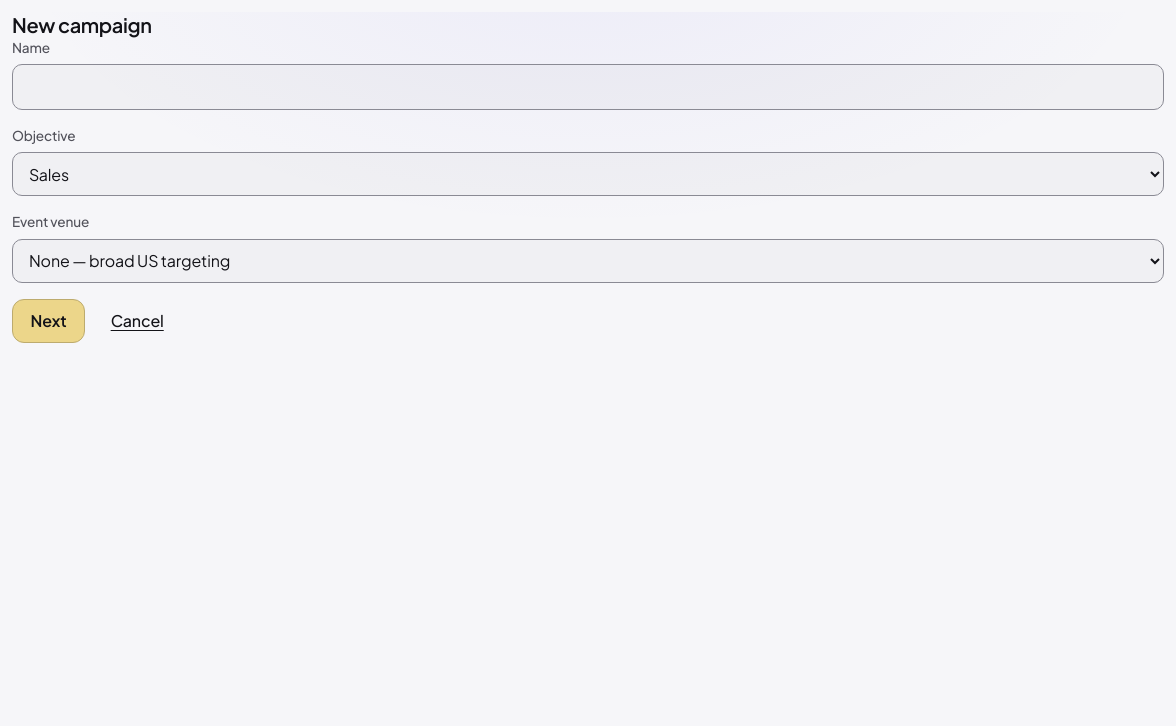
Test: NewCampaignFlow › goes straight to the full ProductForm after creating the campaign — no picker in front of it
The width and height of the screenshot is (1176, 726).
Type "Necklace push" into the field labelled "Name". click: coordinates (588, 87)
box: [12, 64, 1164, 110]
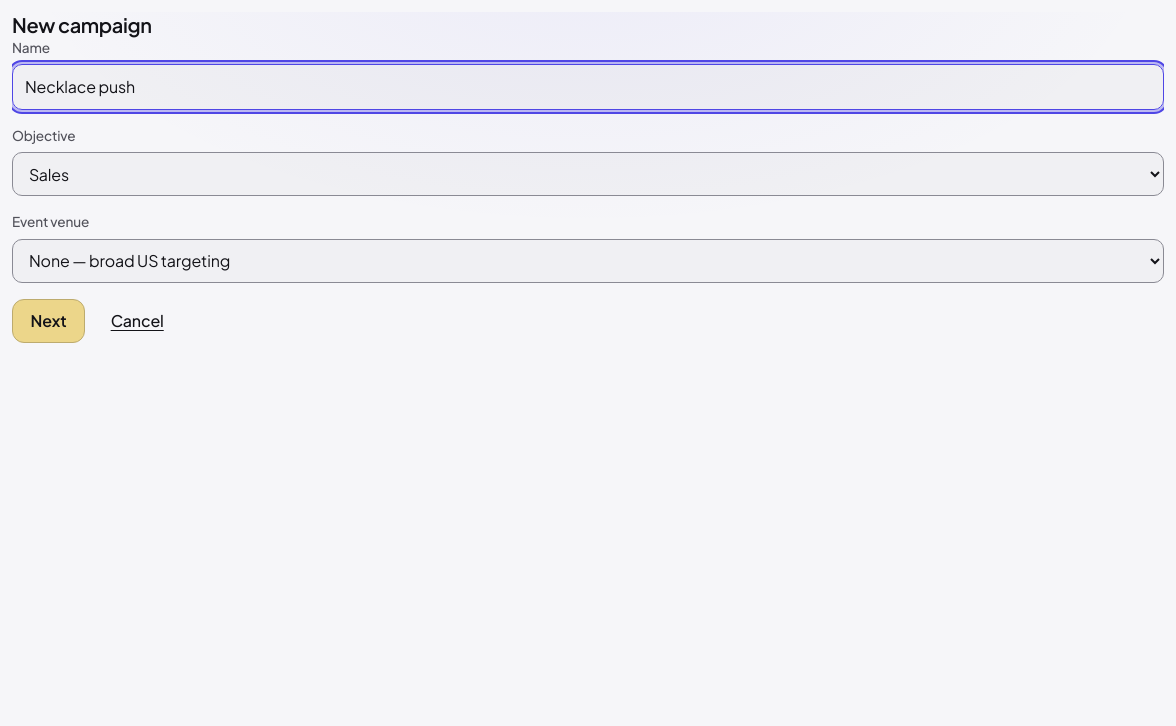
Click the button "Next". click: coordinates (49, 321)
box: [12, 299, 85, 343]
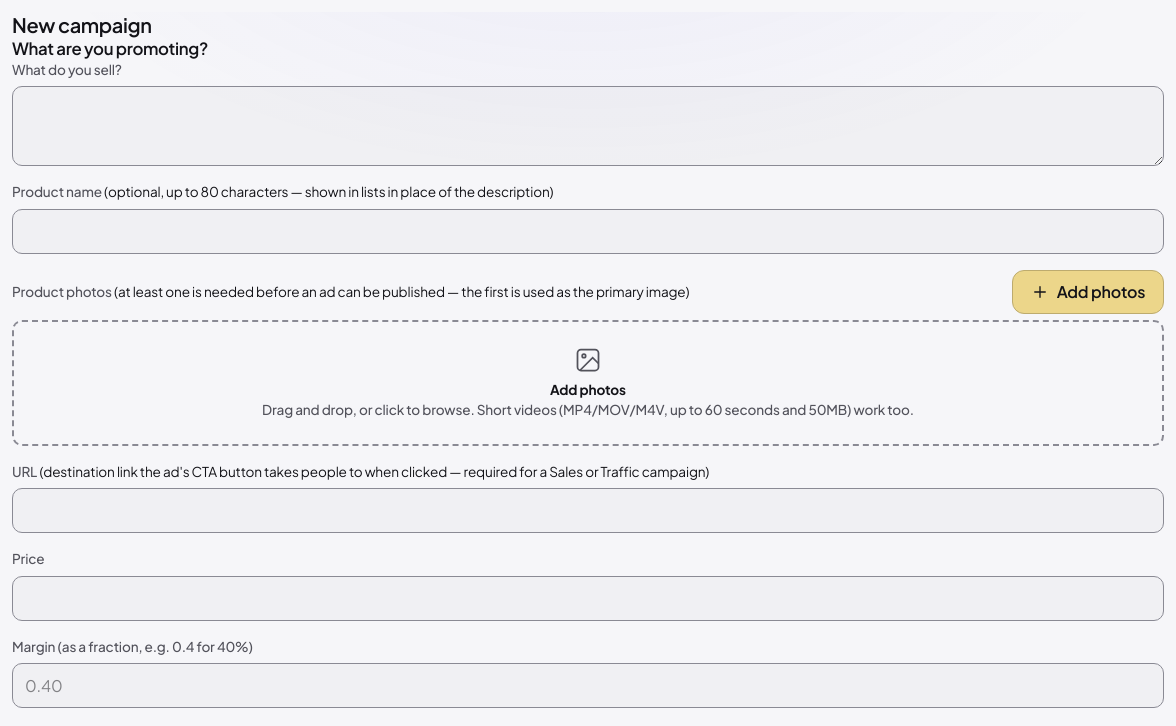
Check: the text box labelled "What do you sell?" is shown, box [12, 86, 1164, 166]
